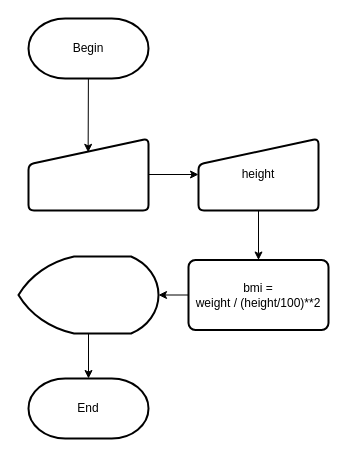
The diagram is 346 pixels wide and 456 high, and some of its shapes have lost their labels. The shapes that lost their labels are listed below. From the top down, each one's box as (x1, y1, x2, y2) in pixels, then its label:
(27, 137, 149, 211): weight
(17, 255, 159, 334): f"You BMI is {bmi:.2f}"
